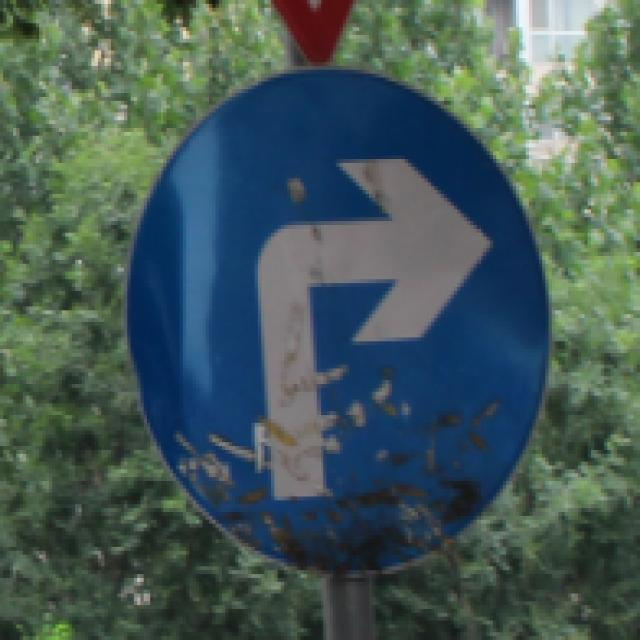Right: (120, 58, 545, 580)
